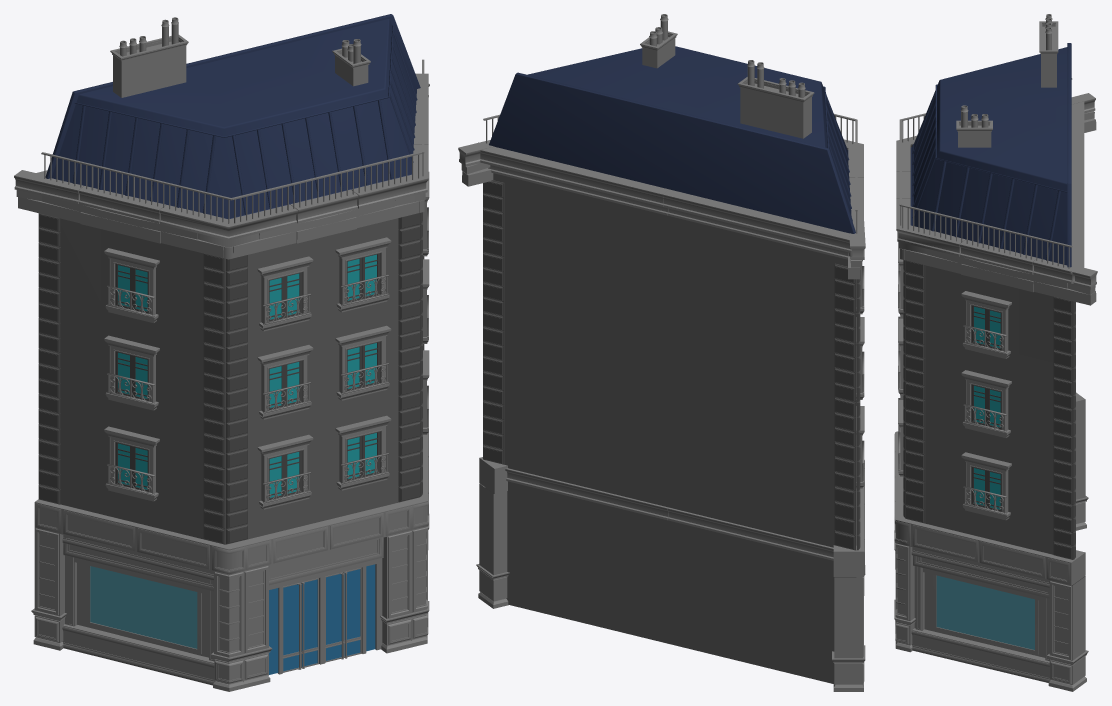
The model's file is SM_building_corner_01.fbx.
The picture shows the model from 3 angles, left to right: view 1: azimuth 30°, elevation 25°; view 2: azimuth 150°, elevation 25°; view 3: azimuth 270°, elevation 25°; orthographic projection. The views are drawn at different scales.
Parts seen in each view (by area): view 1: Box262; view 2: Box262; view 3: Box262.
Boxes of the visible parts, x1,y1,x2,y2 form: Box262: (14,14,429,691); Box262: (458,14,865,691); Box262: (894,14,1097,691).
Size of the model in its own units: 541 by 752 by 253.
